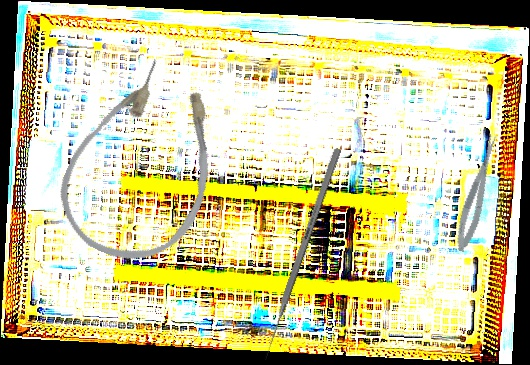Cannula: (42, 44, 248, 281)
Micro Scissor: (450, 132, 505, 254)
Pusher: (261, 147, 342, 361)
